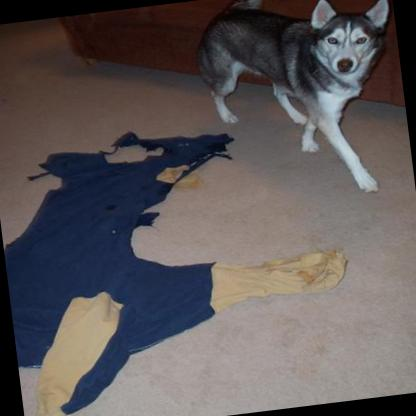Siberian_husky: (188, 0, 410, 209)
